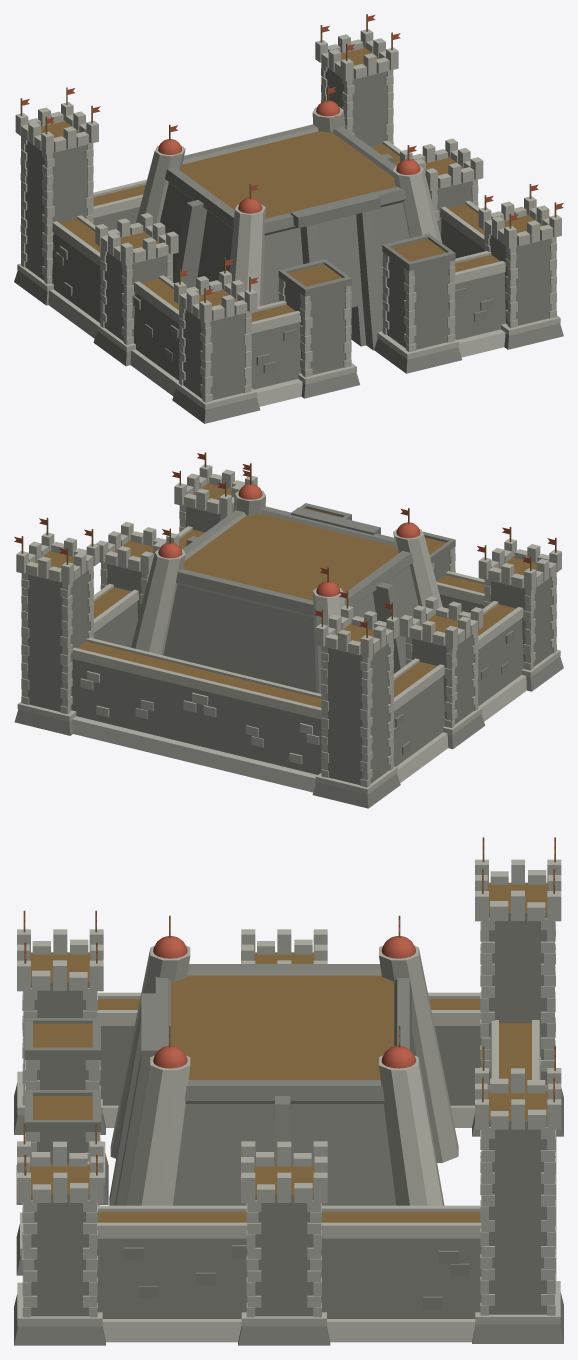
The model's file is Castle-y15yE6kWLY.glb.
3 renders of one model, top to bottom at view 1: azimuth 30°, elevation 25°; view 2: azimuth 150°, elevation 25°; view 3: azimuth 270°, elevation 25°, orthographic. The views are drawn at different scales.
Parts seen in each view (by area): view 1: Castle-y15yE6kWLY; view 2: Castle-y15yE6kWLY; view 3: Castle-y15yE6kWLY.
Boxes of the visible parts, x1,y1,x2,y2 form: Castle-y15yE6kWLY: (14, 14, 563, 423); Castle-y15yE6kWLY: (14, 452, 563, 808); Castle-y15yE6kWLY: (14, 837, 563, 1345).
Bounding box in the file's own units: 2.13 × 1.08 × 1.96.
